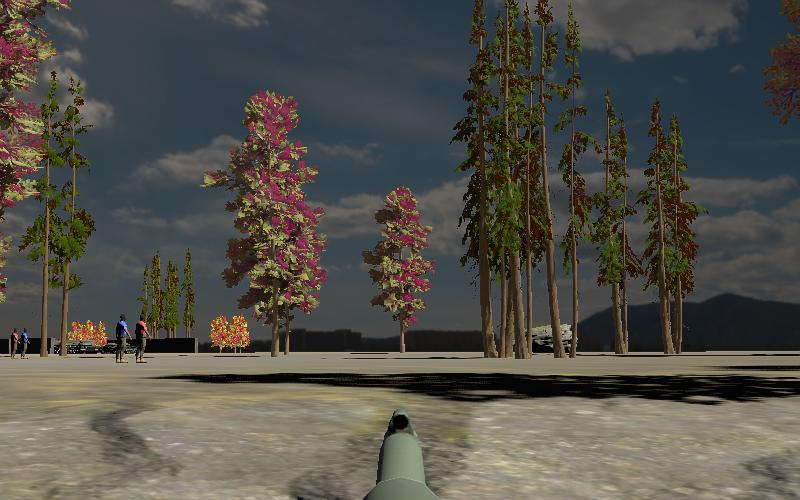Human: (114, 313, 132, 364), (133, 313, 151, 364), (19, 328, 31, 360), (9, 327, 20, 359)
